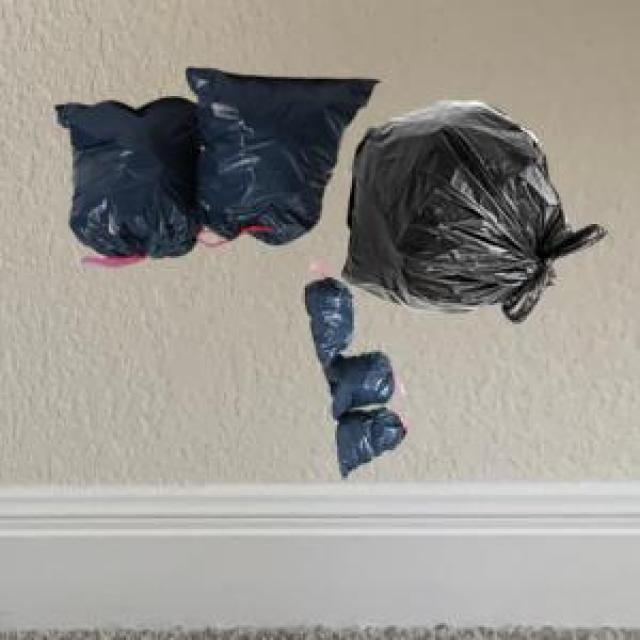waste: (58, 68, 375, 256), (342, 101, 605, 322), (305, 279, 406, 476)
